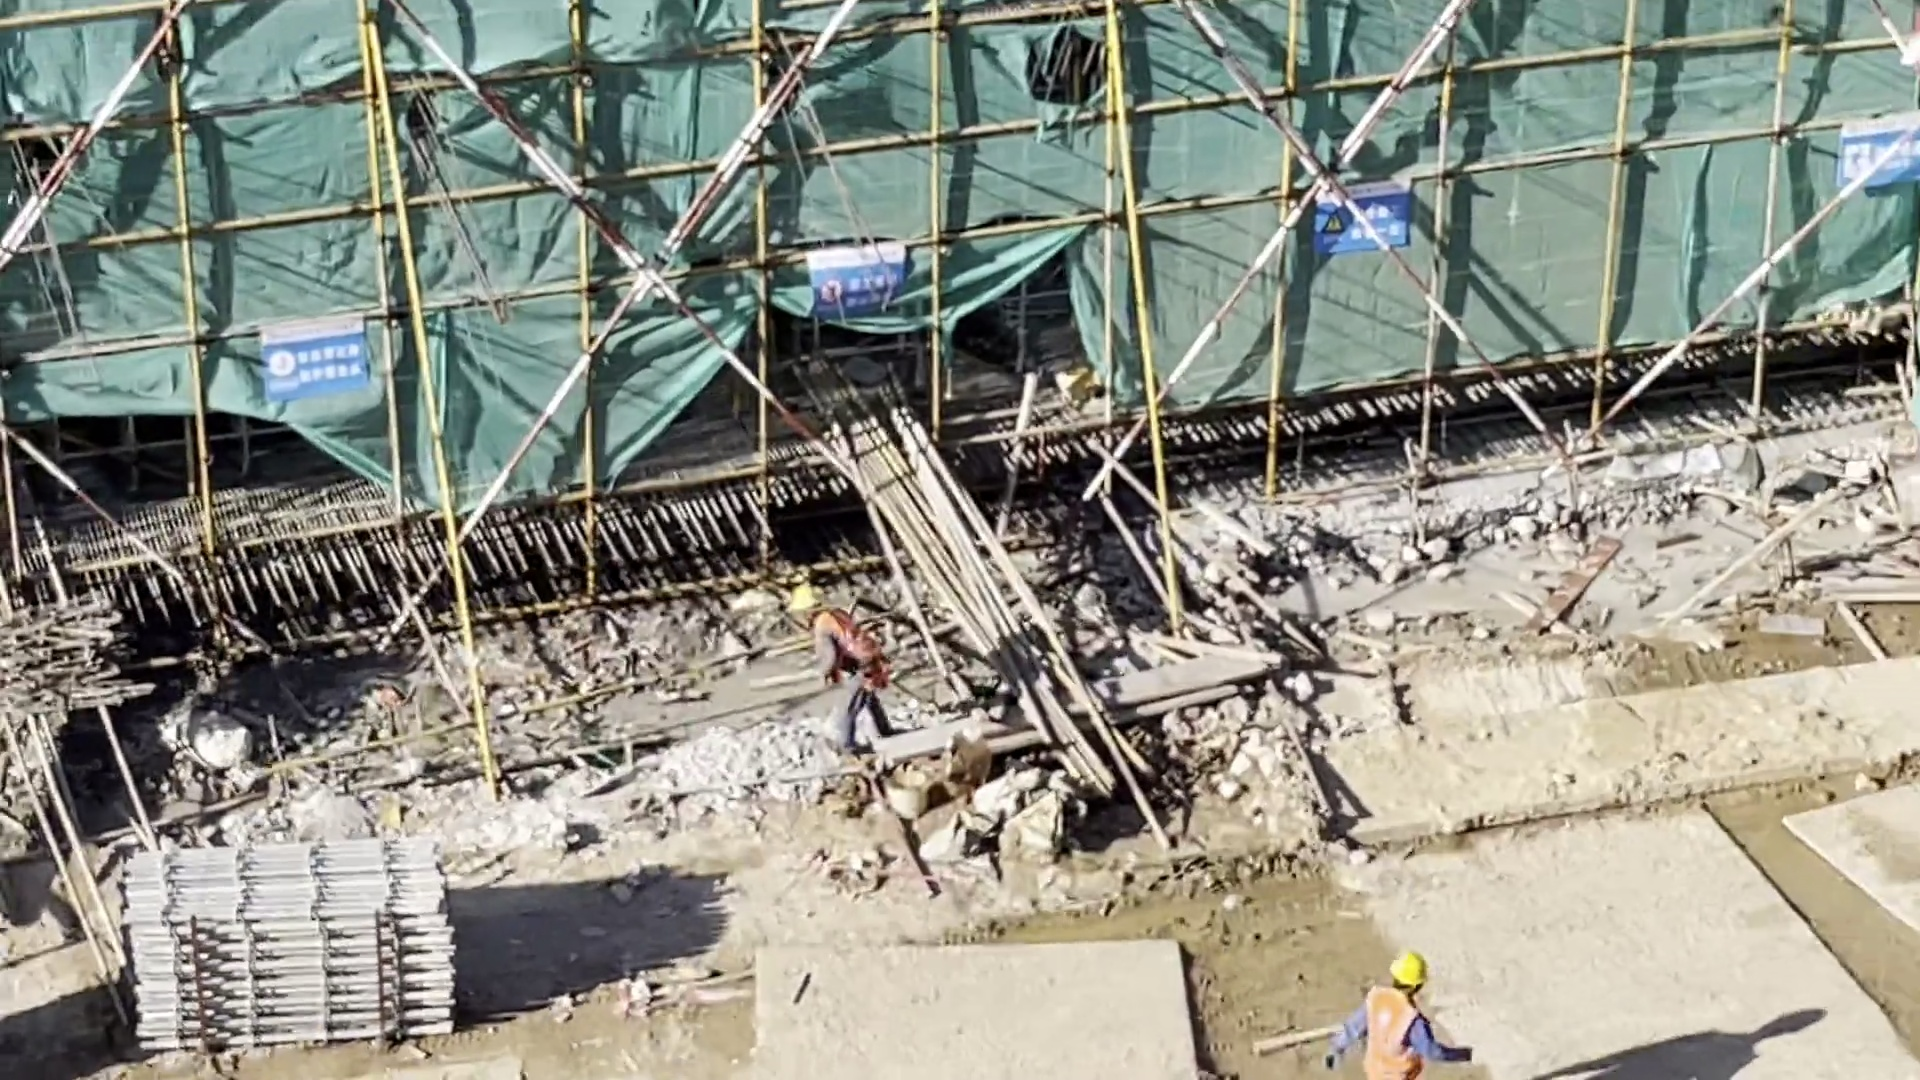helmet: (1377, 939, 1432, 997), (788, 579, 834, 619)
person: (1303, 949, 1491, 1080), (774, 589, 911, 764)
scaffold: (104, 821, 499, 1061)
slogan: (243, 312, 374, 405), (1302, 177, 1421, 271), (792, 245, 917, 334), (1837, 120, 1920, 208)
vest: (1358, 979, 1432, 1079), (813, 612, 883, 674)
